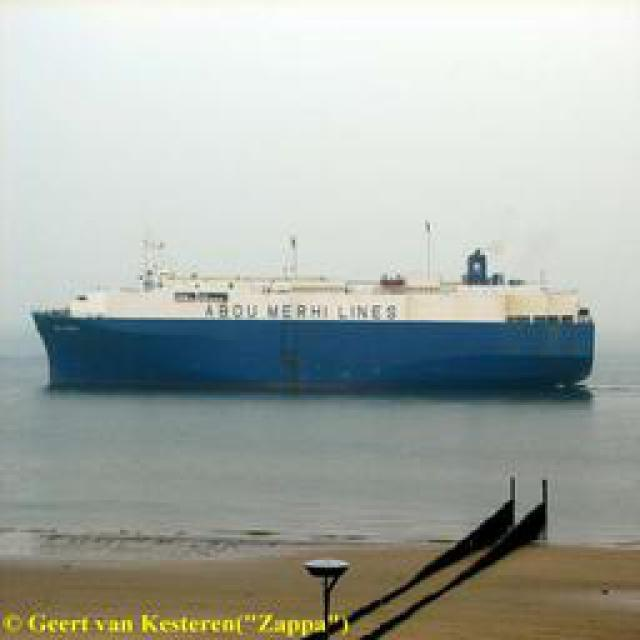Ship: (45, 246, 595, 396)
